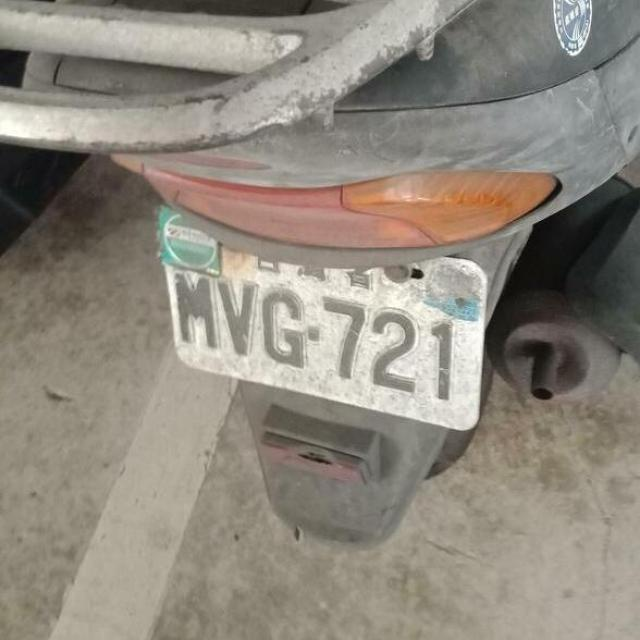W: (138, 203, 510, 442)
